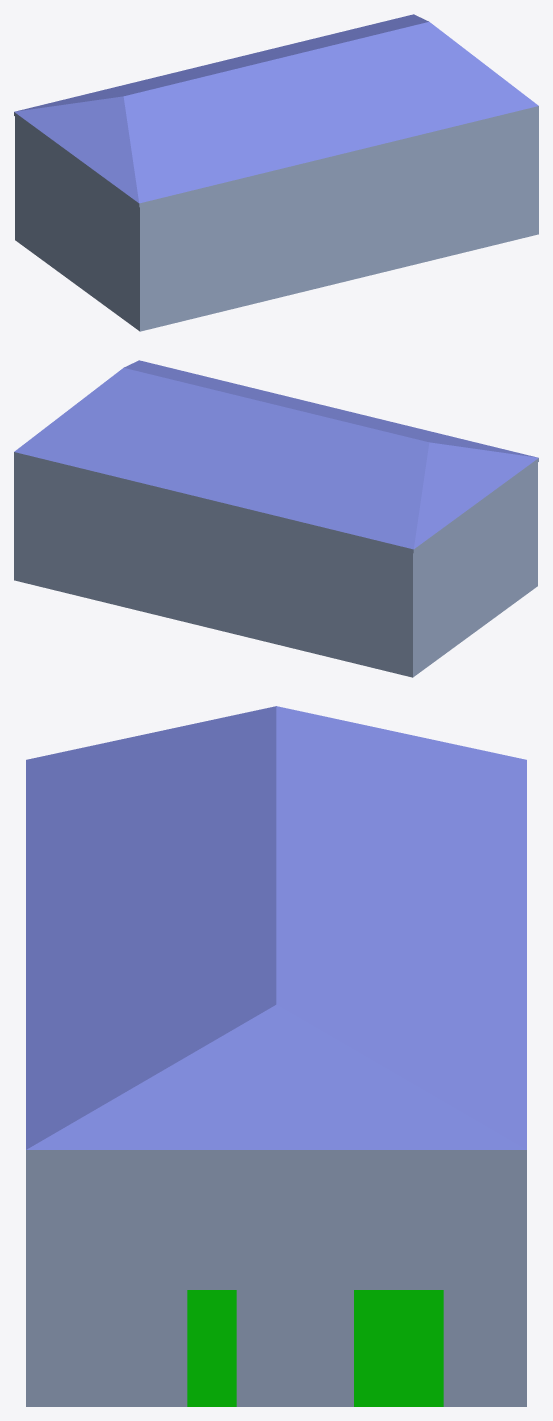
Rendered from Maintenance_Workshop.glb.
The picture shows the model from 3 angles, top to bottom: view 1: azimuth 30°, elevation 25°; view 2: azimuth 150°, elevation 25°; view 3: azimuth 270°, elevation 25°; orthographic projection. The views are drawn at different scales.
Parts seen in each view (by area): view 1: Floor1, Roof; view 2: Floor1, Roof; view 3: Roof, Floor1.
Part boxes in pixels (x1,y1,x2,y2): Floor1: (15,110,538,331); Roof: (14,14,538,207); Floor1: (14,456,537,677); Roof: (14,360,538,553); Roof: (26,706,526,1157); Floor1: (26,1157,526,1406).
Size of the model in its own units: 21.5 by 9.16 by 11.67.
